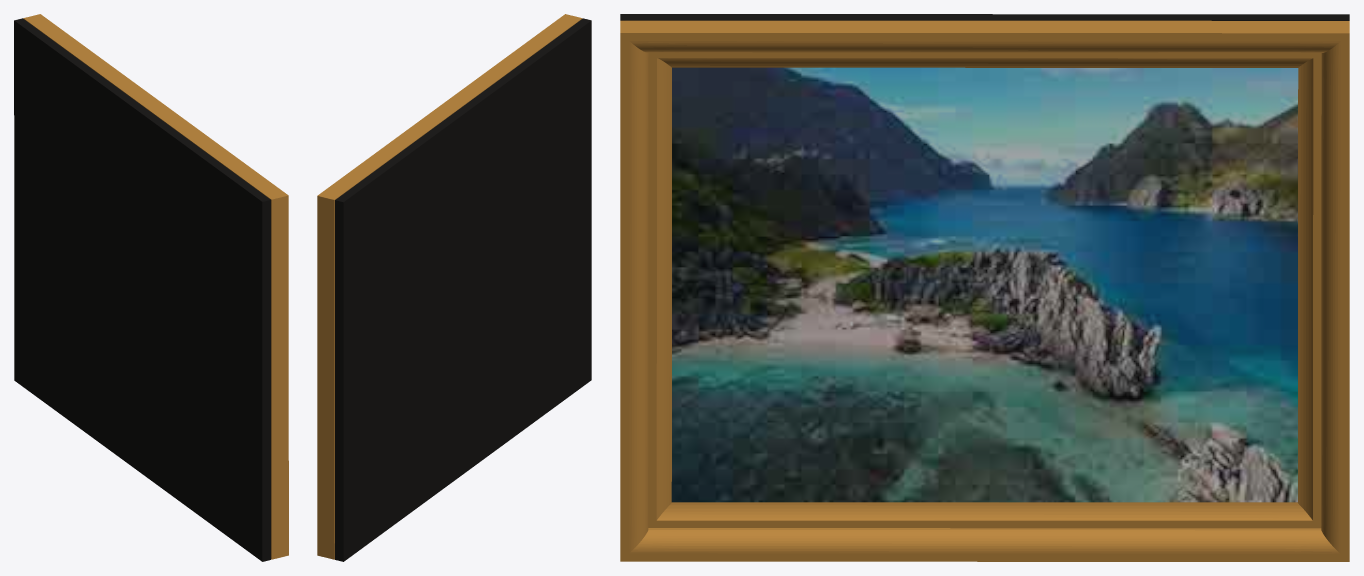
3 renders of one model, left to right at view 1: azimuth 30°, elevation 25°; view 2: azimuth 150°, elevation 25°; view 3: azimuth 270°, elevation 25°, orthographic. The views are drawn at different scales.
Visible parts, largest first — view 1: frame.001_3.001, back panel.001_2.001; view 2: frame.001_3.001, back panel.001_2.001; view 3: frame.001_3.001, back panel.001_2.001.
Boxes of the visible parts, bbox=[...] form: frame.001_3.001: bbox=[14, 18, 270, 561]; back panel.001_2.001: bbox=[23, 14, 288, 559]; frame.001_3.001: bbox=[335, 18, 591, 561]; back panel.001_2.001: bbox=[317, 14, 582, 559]; frame.001_3.001: bbox=[620, 14, 1349, 502]; back panel.001_2.001: bbox=[620, 20, 1349, 561].
Bounding box in the file's own units: 1.05 × 13.7 × 17.12.
Materials: 3 (1 with a texture image).
